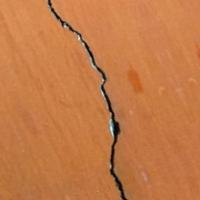crack: (48, 0, 146, 199)
